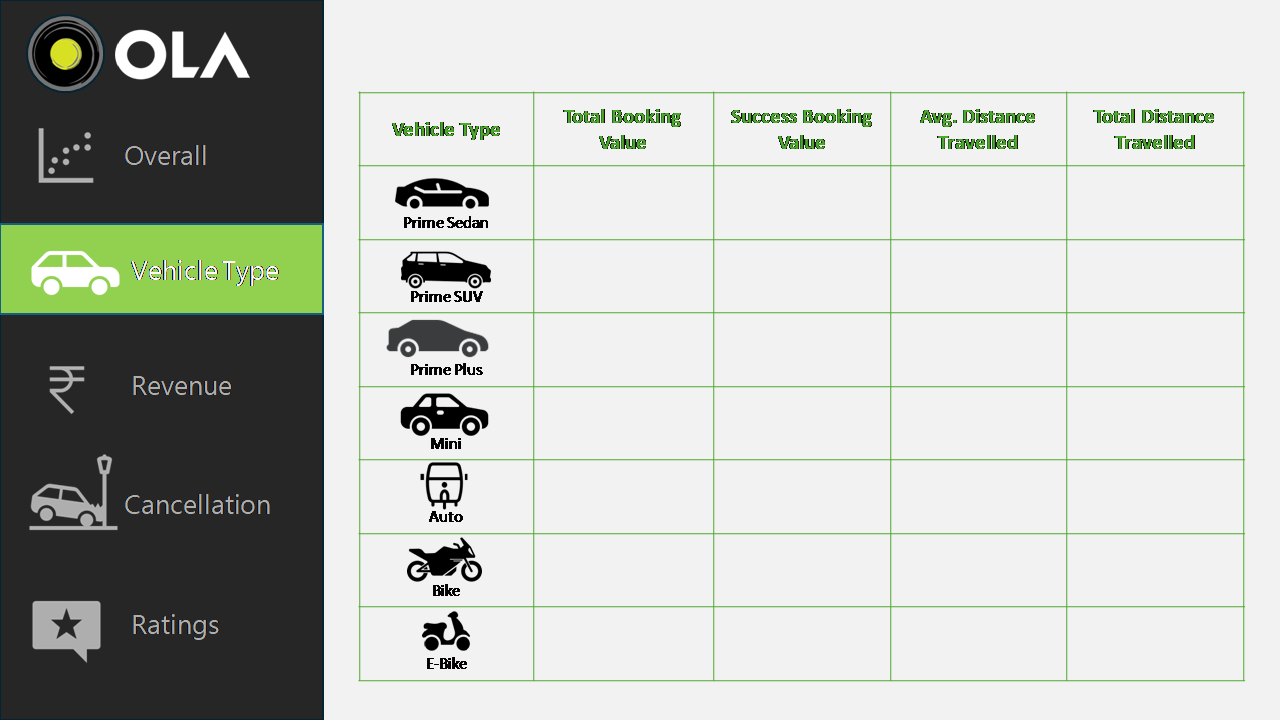

Layout of this report page (visuals, bound fields, positions):
{"tool":"powerbi","page":{"name":"Vehicle Type","canvas":[1280,720],"ordinal":1},"visuals":[{"type":"actionButton","box":[0,335.2,325.2,88.4],"z":0},{"type":"actionButton","box":[0,448.2,325.2,88.4],"z":1000},{"type":"actionButton","box":[0,580.3,325.2,88.4],"z":2000},{"type":"actionButton","box":[0,110.2,325.2,88.4],"z":3000},{"type":"card","fields":{"Values":["Sum(July.Booking_Value)"]},"box":[516,165,202,65],"z":4000},{"type":"card","fields":{"Values":["Sum(July.Booking_Value)"]},"box":[538,241,171,65],"z":5000},{"type":"card","fields":{"Values":["Sum(July.Booking_Value)"]},"box":[538,314,171,65],"z":6000},{"type":"card","fields":{"Values":["Sum(July.Booking_Value)"]},"box":[538,383,171,65],"z":7000},{"type":"card","fields":{"Values":["Sum(July.Booking_Value)"]},"box":[539,459,171,65],"z":8000},{"type":"card","fields":{"Values":["Sum(July.Booking_Value)"]},"box":[540,536,171,65],"z":9000},{"type":"card","fields":{"Values":["Sum(July.Booking_Value)"]},"box":[540,612,171,65],"z":10000},{"type":"card","fields":{"Values":["Sum(July.Booking_Value)"]},"box":[690,165,202,65],"z":11000},{"type":"card","fields":{"Values":["Sum(July.Booking_Value)"]},"box":[690,241,202,65],"z":12000},{"type":"card","fields":{"Values":["Sum(July.Booking_Value)"]},"box":[690,318,202,65],"z":13000},{"type":"card","fields":{"Values":["Sum(July.Booking_Value)"]},"box":[690,383,202,65],"z":14000},{"type":"card","fields":{"Values":["Sum(July.Booking_Value)"]},"box":[690,459,202,65],"z":15000},{"type":"card","fields":{"Values":["Sum(July.Booking_Value)"]},"box":[690,536,202,65],"z":16000},{"type":"card","fields":{"Values":["Sum(July.Booking_Value)"]},"box":[690,612,202,65],"z":17000},{"type":"card","fields":{"Values":["Avg(July.Ride_Distance)"]},"box":[873,166,202,65],"z":18000},{"type":"card","fields":{"Values":["Avg(July.Ride_Distance)"]},"box":[873,241,202,65],"z":19000},{"type":"card","fields":{"Values":["Avg(July.Ride_Distance)"]},"box":[873,314,202,65],"z":20000},{"type":"card","fields":{"Values":["Avg(July.Ride_Distance)"]},"box":[873,383,202,65],"z":21000},{"type":"card","fields":{"Values":["Avg(July.Ride_Distance)"]},"box":[873,460,202,65],"z":22000},{"type":"card","fields":{"Values":["Avg(July.Ride_Distance)"]},"box":[873,536,202,65],"z":23000},{"type":"card","fields":{"Values":["Avg(July.Ride_Distance)"]},"box":[873,612,202,65],"z":24000},{"type":"actionButton","box":[0,0,100,40],"z":25000},{"type":"card","fields":{"Values":["Sum(July.Ride_Distance)"]},"box":[1043,167,202,65],"z":26000},{"type":"card","fields":{"Values":["Sum(July.Ride_Distance)"]},"box":[1043,241,202,65],"z":27000},{"type":"card","fields":{"Values":["Sum(July.Ride_Distance)"]},"box":[1043,314,202,65],"z":28000},{"type":"card","fields":{"Values":["Sum(July.Ride_Distance)"]},"box":[1043,390,202,65],"z":29000},{"type":"card","fields":{"Values":["Sum(July.Ride_Distance)"]},"box":[1043,460,202,65],"z":30000},{"type":"card","fields":{"Values":["Sum(July.Ride_Distance)"]},"box":[1043,536,202,65],"z":31000},{"type":"card","fields":{"Values":["Sum(July.Ride_Distance)"]},"box":[1043,612,202,65],"z":32000},{"type":"slicer","title":"Date","fields":{"Values":["July. Date"]},"box":[974,7,271,80],"z":33000}]}

Visuals, with their boxes on the page's 1280x720 design canvas (x1, y1, x2, y2). These are canvas units, not pixel positions in the 1280x720 screenshot, which may show the page scaled, cropped or inside an application window:
actionButton: rect(0, 335, 325, 424)
actionButton: rect(0, 448, 325, 537)
actionButton: rect(0, 580, 325, 669)
actionButton: rect(0, 110, 325, 199)
card - Sum(July.Booking_Value): rect(516, 165, 718, 230)
card - Sum(July.Booking_Value): rect(538, 241, 709, 306)
card - Sum(July.Booking_Value): rect(538, 314, 709, 379)
card - Sum(July.Booking_Value): rect(538, 383, 709, 448)
card - Sum(July.Booking_Value): rect(539, 459, 710, 524)
card - Sum(July.Booking_Value): rect(540, 536, 711, 601)
card - Sum(July.Booking_Value): rect(540, 612, 711, 677)
card - Sum(July.Booking_Value): rect(690, 165, 892, 230)
card - Sum(July.Booking_Value): rect(690, 241, 892, 306)
card - Sum(July.Booking_Value): rect(690, 318, 892, 383)
card - Sum(July.Booking_Value): rect(690, 383, 892, 448)
card - Sum(July.Booking_Value): rect(690, 459, 892, 524)
card - Sum(July.Booking_Value): rect(690, 536, 892, 601)
card - Sum(July.Booking_Value): rect(690, 612, 892, 677)
card - Avg(July.Ride_Distance): rect(873, 166, 1075, 231)
card - Avg(July.Ride_Distance): rect(873, 241, 1075, 306)
card - Avg(July.Ride_Distance): rect(873, 314, 1075, 379)
card - Avg(July.Ride_Distance): rect(873, 383, 1075, 448)
card - Avg(July.Ride_Distance): rect(873, 460, 1075, 525)
card - Avg(July.Ride_Distance): rect(873, 536, 1075, 601)
card - Avg(July.Ride_Distance): rect(873, 612, 1075, 677)
actionButton: rect(0, 0, 100, 40)
card - Sum(July.Ride_Distance): rect(1043, 167, 1245, 232)
card - Sum(July.Ride_Distance): rect(1043, 241, 1245, 306)
card - Sum(July.Ride_Distance): rect(1043, 314, 1245, 379)
card - Sum(July.Ride_Distance): rect(1043, 390, 1245, 455)
card - Sum(July.Ride_Distance): rect(1043, 460, 1245, 525)
card - Sum(July.Ride_Distance): rect(1043, 536, 1245, 601)
card - Sum(July.Ride_Distance): rect(1043, 612, 1245, 677)
"Date" slicer: rect(974, 7, 1245, 87)
